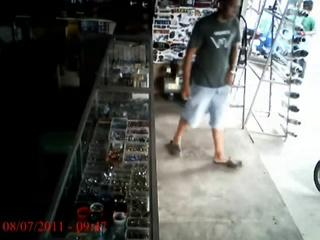Normal: (166, 0, 242, 168), (301, 0, 317, 33)
